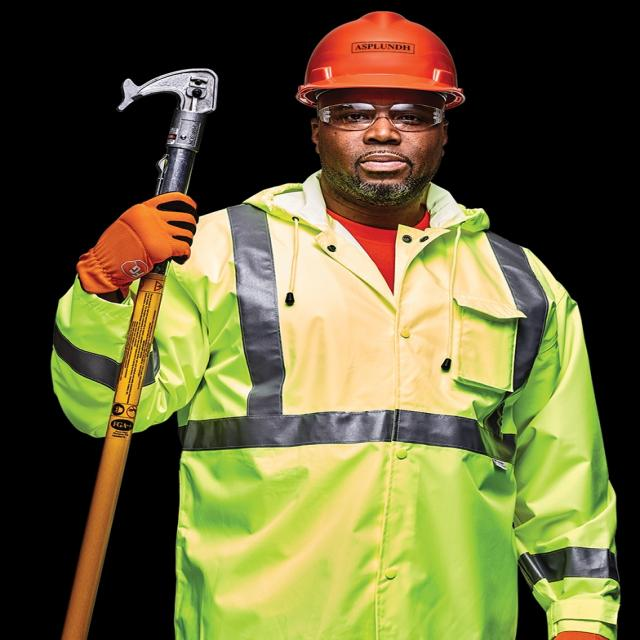Reflective-Jacket: (42, 163, 631, 640)
Safety-Helmet: (292, 8, 466, 109)
